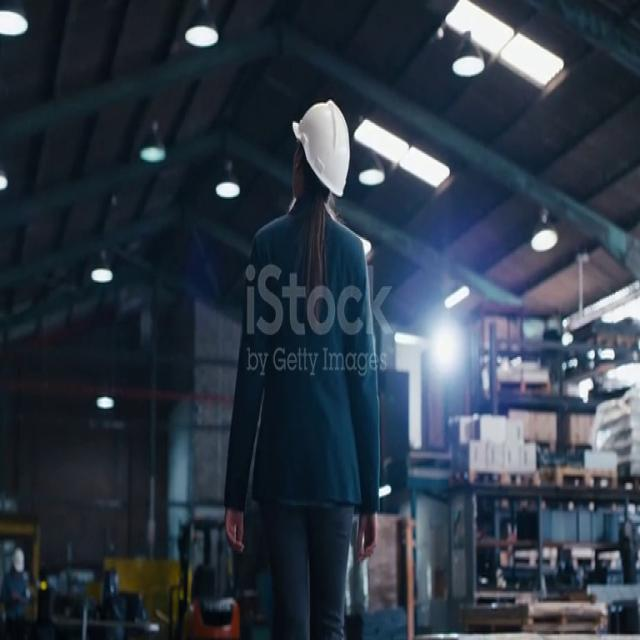capacete: (284, 77, 361, 210)
